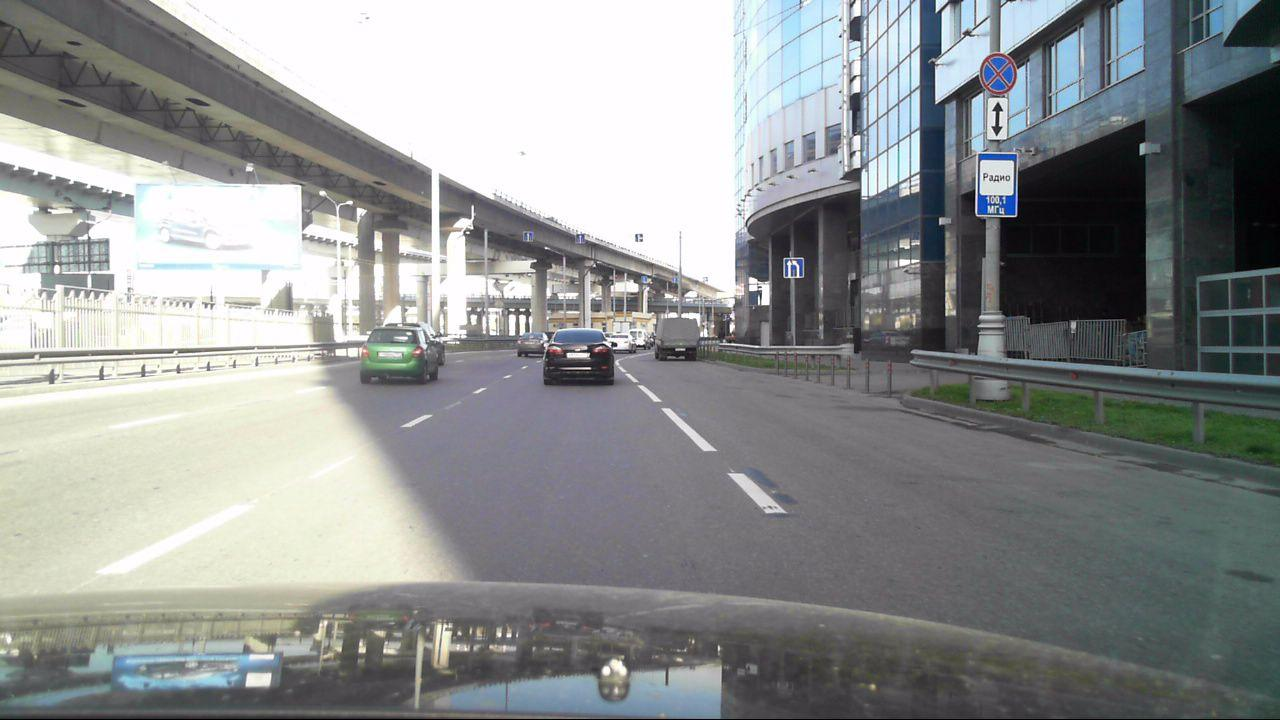3_27: (981, 52, 1018, 94)
5_15_2: (523, 231, 534, 243), (575, 233, 585, 245), (635, 233, 644, 243), (641, 275, 648, 283), (672, 276, 678, 284)
5_15_5: (783, 256, 804, 280)
7_15: (975, 151, 1019, 219)
8_2_4: (987, 96, 1009, 141)
